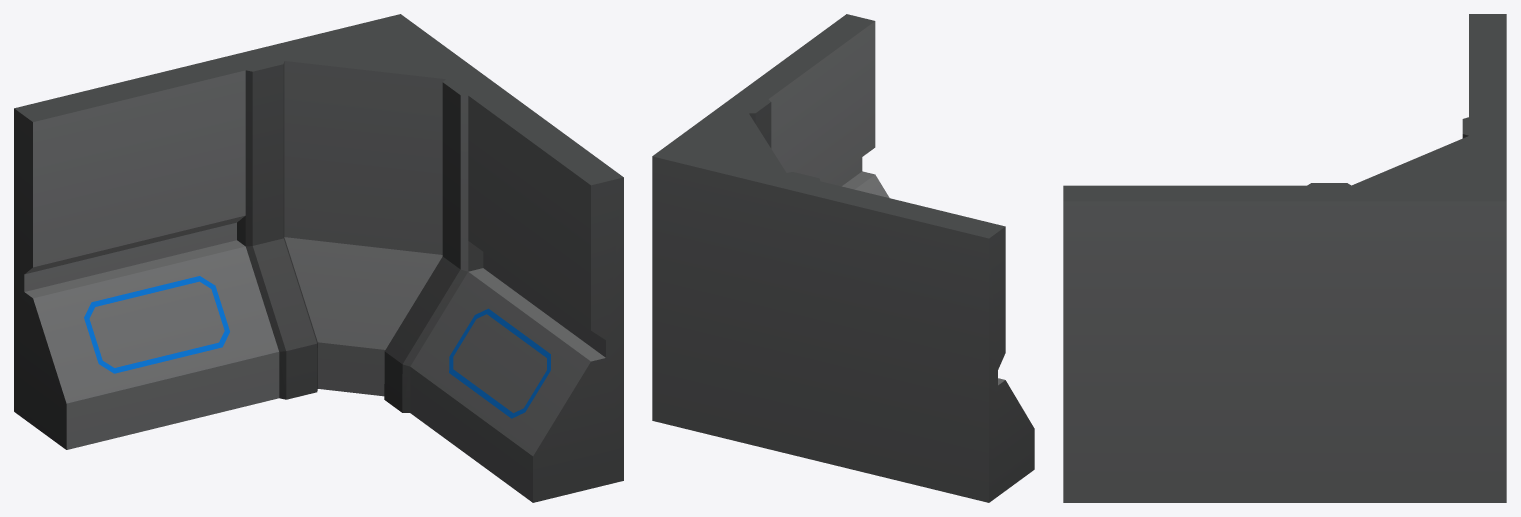
Rendered from Wall_type_B_026.fbx.
3 views of the same model, side by side, from view 1: azimuth 30°, elevation 25°; view 2: azimuth 150°, elevation 25°; view 3: azimuth 270°, elevation 25° (orthographic). The views are drawn at different scales.
Visible parts, largest first — view 1: Wall_type_B_026; view 2: Wall_type_B_026; view 3: Wall_type_B_026.
Boxes of the visible parts, <box> form: Wall_type_B_026: <box>14,14,623,502</box>; Wall_type_B_026: <box>652,14,1034,502</box>; Wall_type_B_026: <box>1063,14,1506,502</box>.
Bounding box in the file's own units: 200 × 200 × 150.
